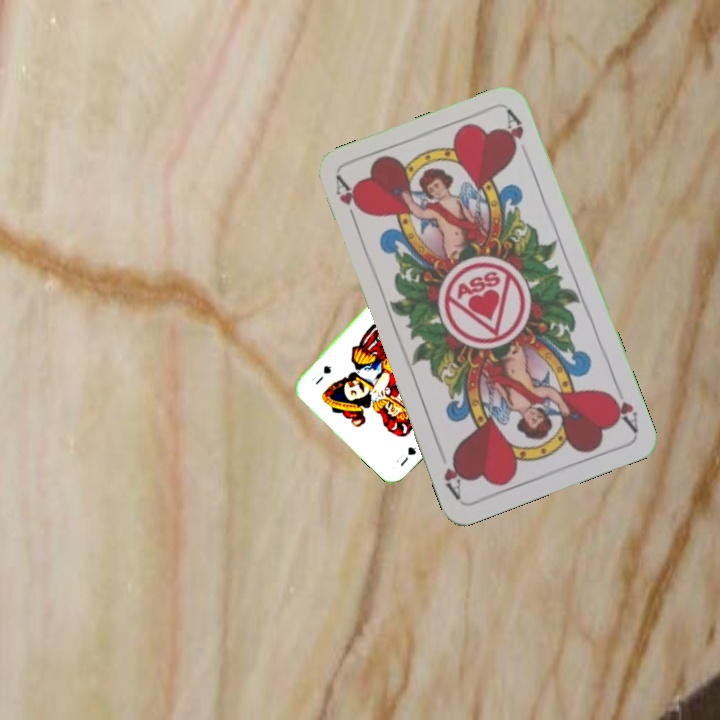GU: (396, 443, 419, 469)
HA: (603, 378, 641, 434), (331, 172, 365, 230)
